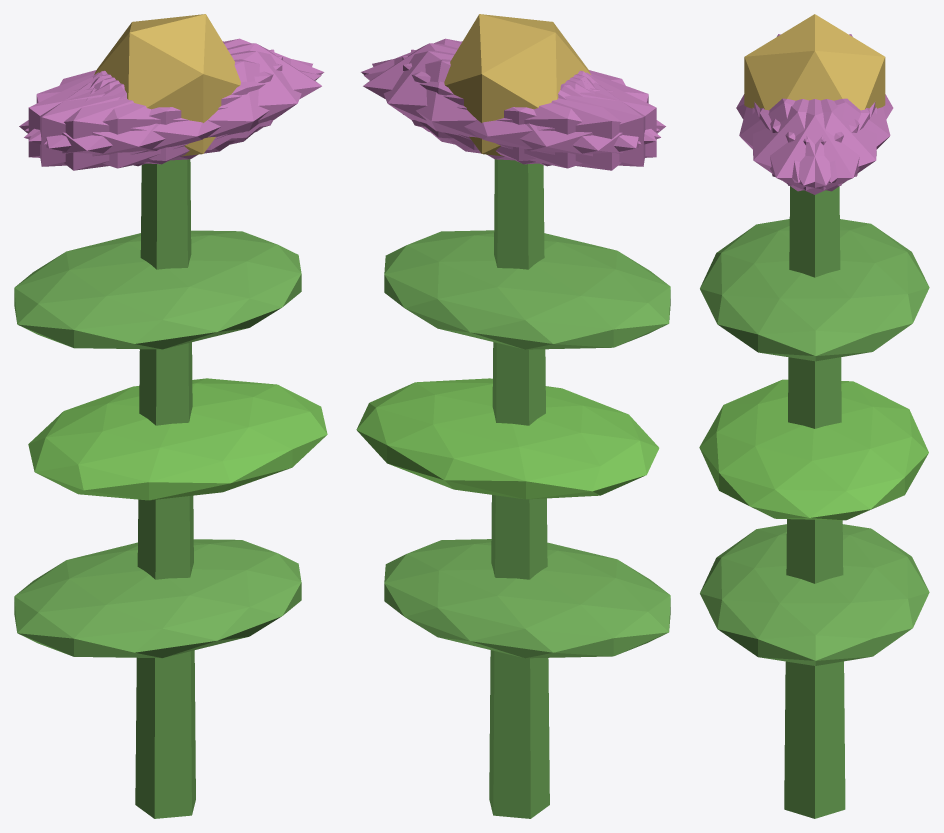
File: eranthemum-pulchellum.glb
3 renders of one model, left to right at view 1: azimuth 30°, elevation 25°; view 2: azimuth 150°, elevation 25°; view 3: azimuth 270°, elevation 25°, orthographic.
Parts seen in each view (by area): view 1: leaf1, leaf2, leaf0, stem, center, petal1, petal6, petal2, petal5, petal7, petal0, petal4 (+2 smaller); view 2: leaf1, leaf2, leaf0, stem, center, petal8, petal3, petal7, petal4, petal2, petal0, petal5 (+2 smaller); view 3: leaf1, leaf2, leaf0, stem, center, petal0, petal4, petal5, petal8, petal1.
Part boxes in pixels (<box>): leaf1: <box>28,378,327,500</box>; leaf2: <box>14,230,301,349</box>; leaf0: <box>14,539,301,658</box>; stem: <box>135,159,195,818</box>; center: <box>94,14,240,156</box>; petal1: <box>24,59,321,168</box>; petal6: <box>19,72,234,170</box>; petal2: <box>40,49,274,166</box>; petal5: <box>44,50,312,160</box>; petal7: <box>28,56,282,164</box>; petal0: <box>94,43,321,150</box>; petal4: <box>25,38,324,141</box>; leaf1: <box>356,378,659,499</box>; leaf2: <box>384,230,670,349</box>; leaf0: <box>384,539,670,658</box>; stem: <box>489,159,549,818</box>; center: <box>444,14,590,156</box>; petal8: <box>364,59,660,168</box>; petal3: <box>450,72,665,170</box>; petal7: <box>411,49,645,166</box>; petal4: <box>372,50,640,160</box>; petal2: <box>402,56,656,164</box>; petal0: <box>363,43,591,150</box>; petal5: <box>361,38,659,141</box>; leaf1: <box>699,379,928,520</box>; leaf2: <box>700,219,929,361</box>; leaf0: <box>700,524,929,665</box>; stem: <box>784,186,845,818</box>; center: <box>744,14,885,110</box>; petal0: <box>754,99,875,194</box>; petal4: <box>759,99,876,191</box>; petal5: <box>752,99,869,191</box>; petal8: <box>770,98,890,182</box>; petal1: <box>739,98,859,182</box>.
Bounding box in the file's own units: 0.1498 × 0.3709 × 0.1002.
